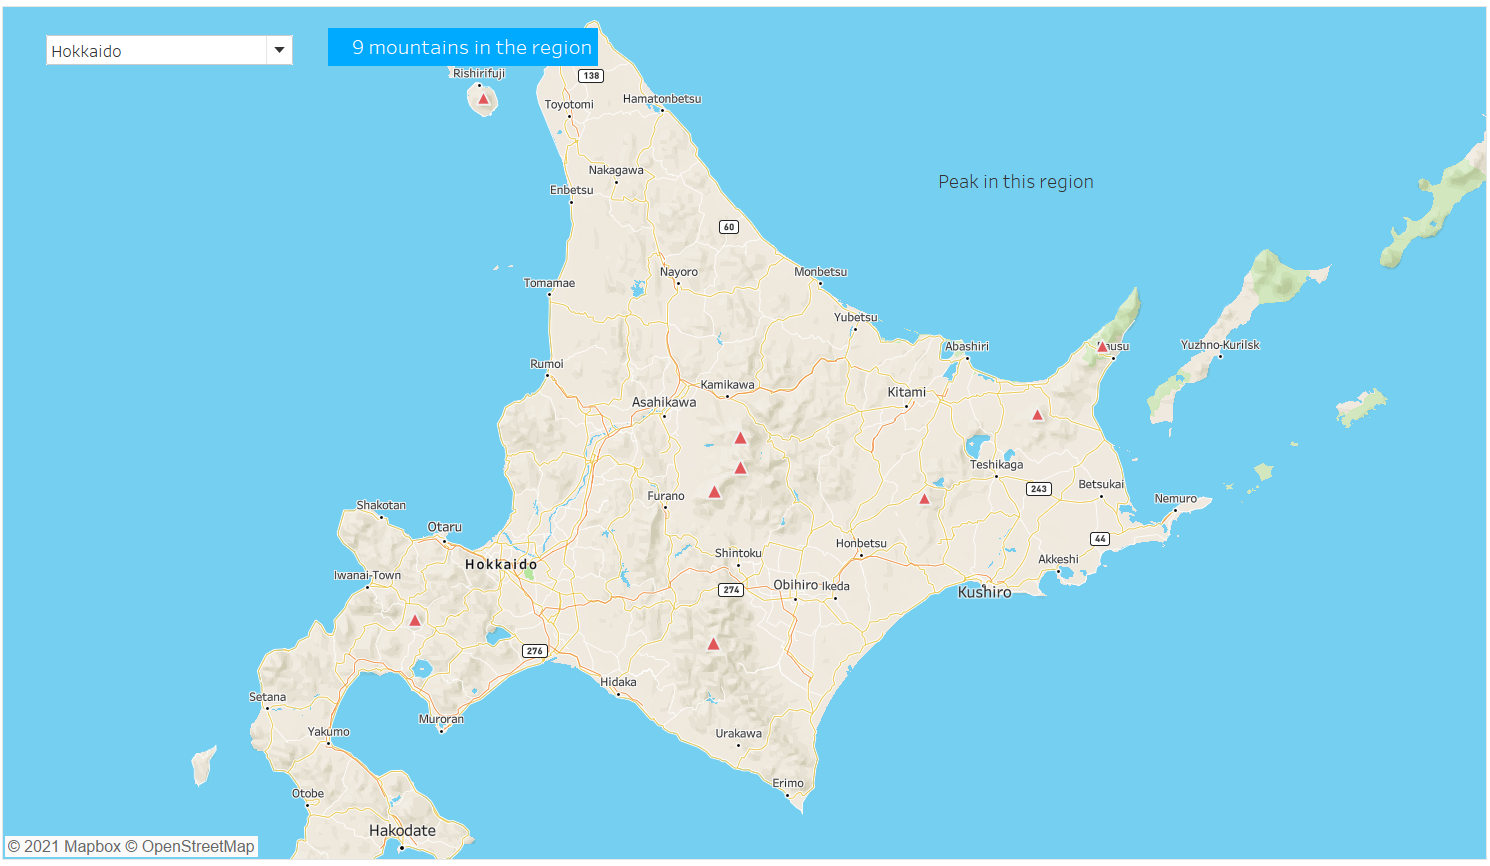

This screenshot's page, from the dashboard's own definition file:
{"tool":"tableau","page":{"name":"Dashboard","canvas":[1000,1000],"units":"permille","ordinal":0},"visuals":[{"type":"worksheet","title":"Map","mark":"Shape","rows":["lat"],"cols":["long"],"box":[5.3,9.1,989.4,981.8]},{"type":"worksheet","title":"Count","mark":"Automatic","box":[224,38.8,291,53.8]},{"type":"filter","title":"Map","param":"[federated.0cc3llv1w3jgvp1dmb4370zjixpz].[none:region:nk]","box":[35.1,43.3,167.7,57]}]}

Visuals, with their boxes on the dashboard's canvas, which has no fixed pixel size, in thousandths of its width and height (x1, y1, x2, y2). These are canvas units, not pixel positions in the 1490x866 screenshot, which may show the page scaled, cropped or inside an application window:
"Map" worksheet (Shape marks): (5, 9, 995, 991)
"Count" worksheet: (224, 39, 515, 93)
"Map" filter: (35, 43, 203, 100)
